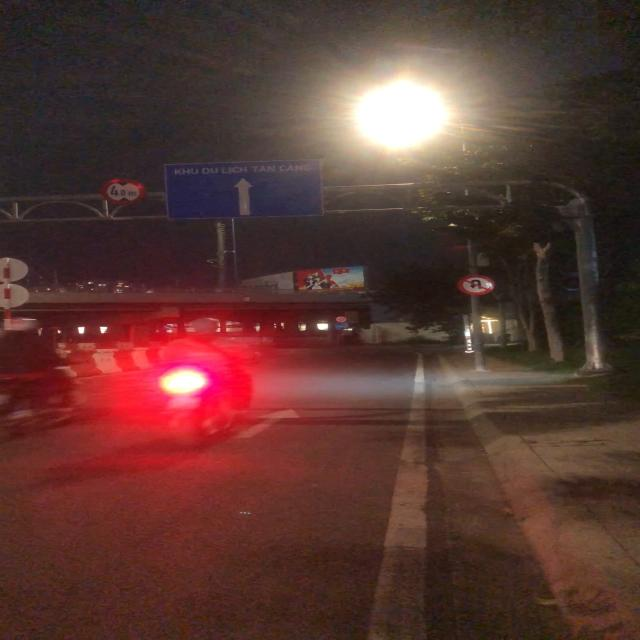Bien bao cam quay dau xe: (456, 274, 494, 296)
Bien bao han che chieu cao: (100, 177, 150, 206)
